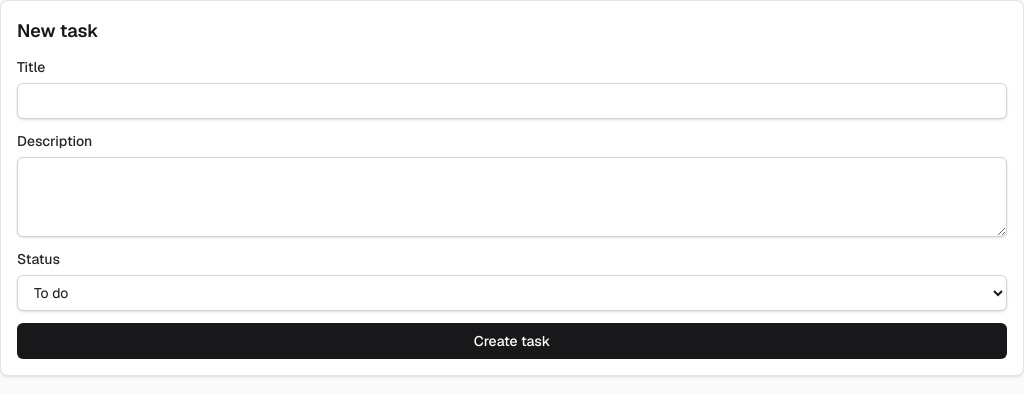
Scenario: TaskCreateForm › shows Saving… while the request is in flight
Type "Ship it" into the field labelled "Title" at (512, 101), box 17,83 -> 1007,119
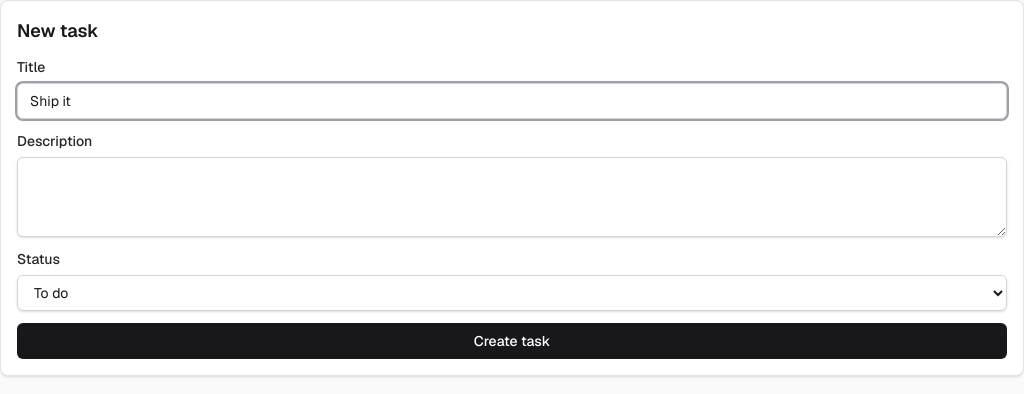
Click the button "Create task" at (512, 341), box 17,323 -> 1007,359
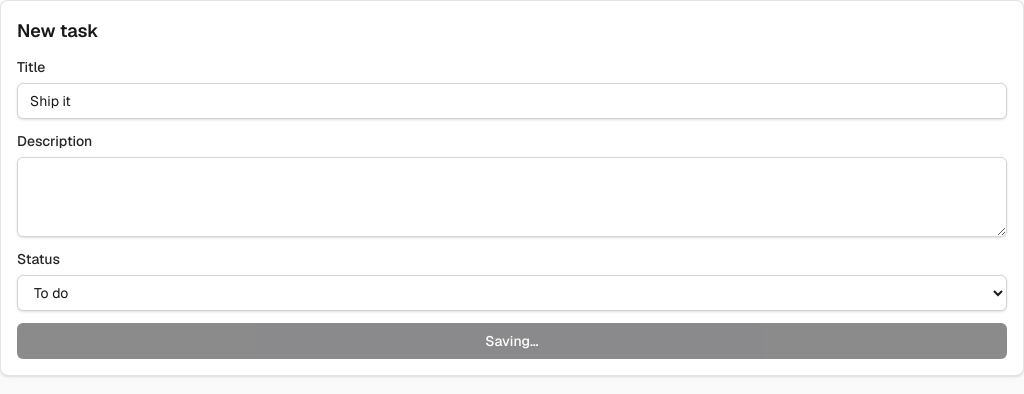
Check: the button "Saving…" is disabled, box 17,323 -> 1007,359
